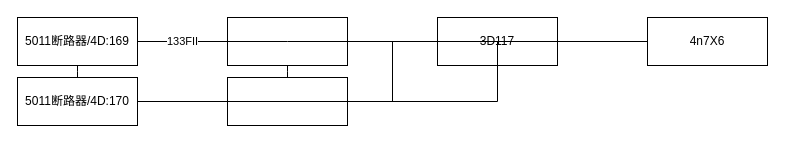
The diagram is 785 pixels wide and 143 high, and some of its shapes have lost their labels. Each missing label, with the centre of its shape:
5021断路器/4D:169: the point at 287,41
5021断路器/4D:170: the point at 287,101
